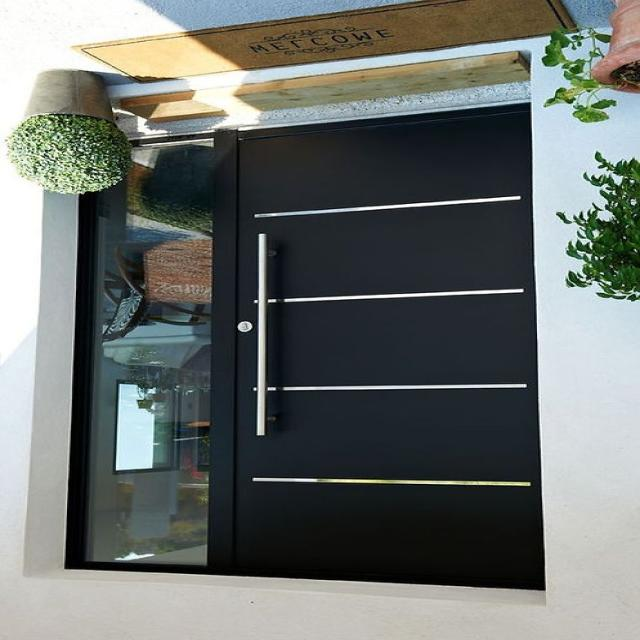door: (223, 102, 541, 588)
